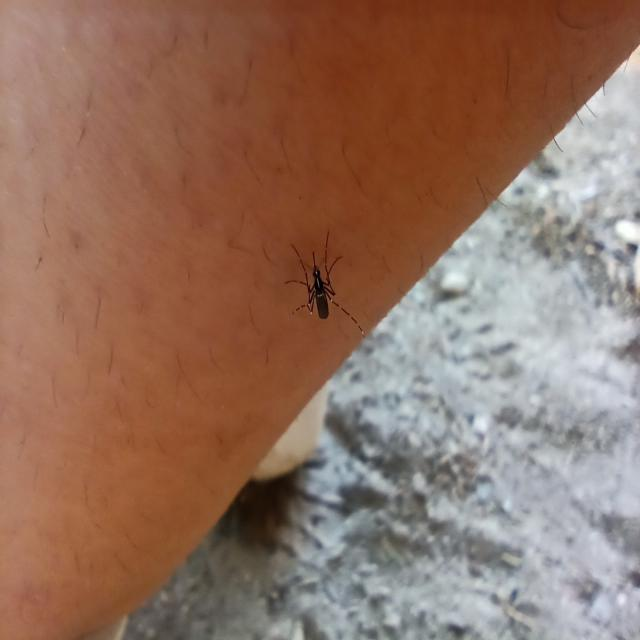albopictus: (278, 225, 364, 334)
